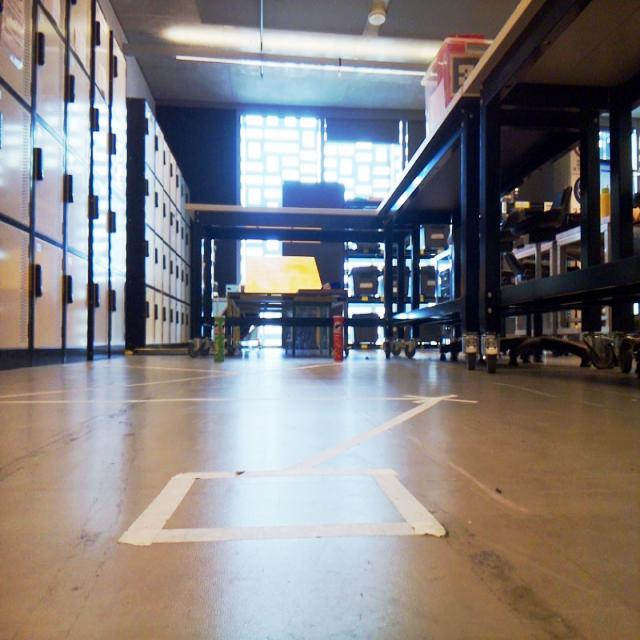greenpringles: (208, 308, 236, 369)
redpringles: (332, 307, 348, 366)
